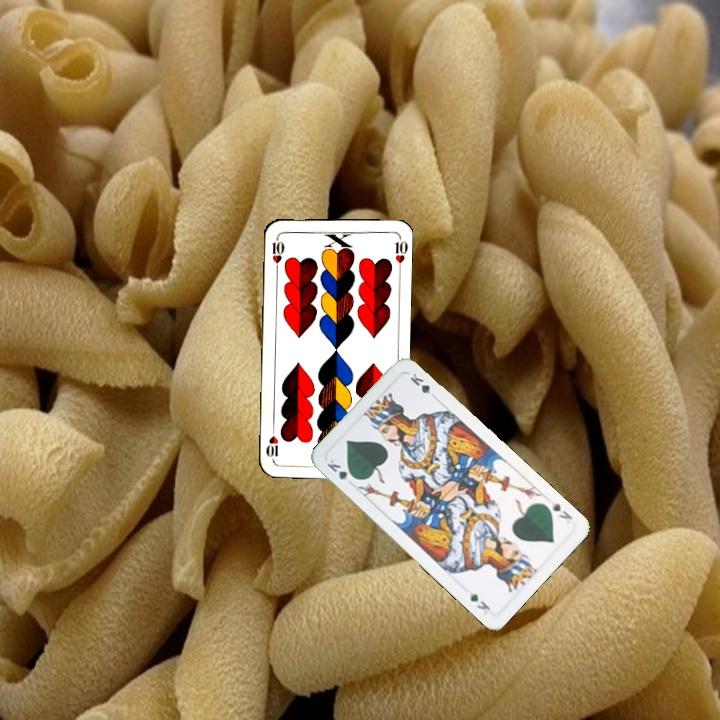GK: (323, 455, 359, 483), (547, 497, 575, 526)
H10: (268, 232, 287, 273)
